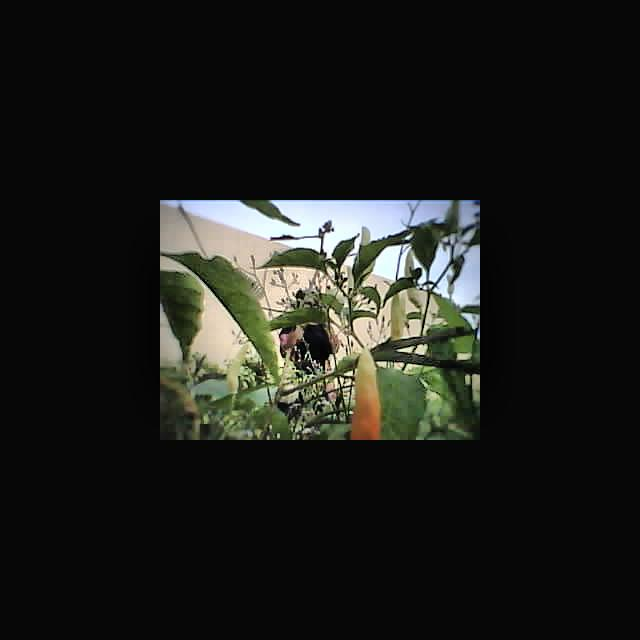Cabai: (349, 346, 387, 440)
